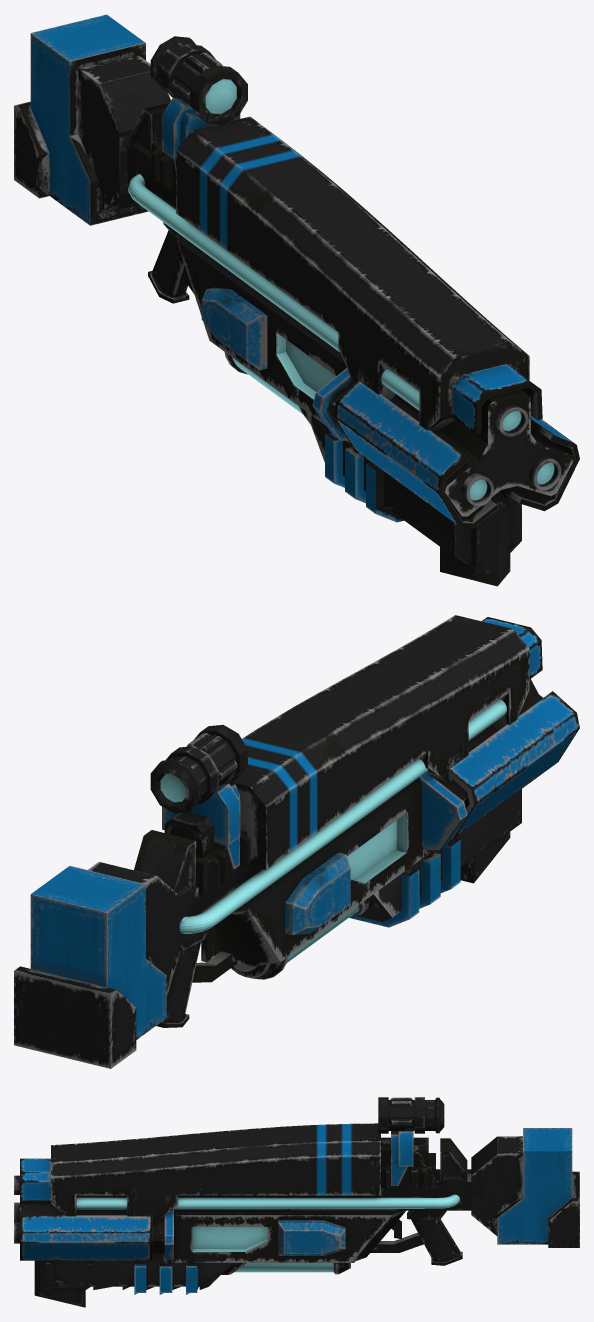
Rendered from shotgun.glb.
3 renders of one model, top to bottom at view 1: azimuth 30°, elevation 25°; view 2: azimuth 150°, elevation 25°; view 3: azimuth 270°, elevation 25°, orthographic. The views are drawn at different scales.
Visible parts, largest first — view 1: shotgun; view 2: shotgun; view 3: shotgun.
Part boxes in pixels (bbox=[...]): shotgun: bbox=[14, 14, 579, 586]; shotgun: bbox=[14, 615, 579, 1068]; shotgun: bbox=[14, 1097, 579, 1307].
Size of the model in its own units: 0.1219 by 0.2565 by 0.6451.
1 material, 1 textured.
